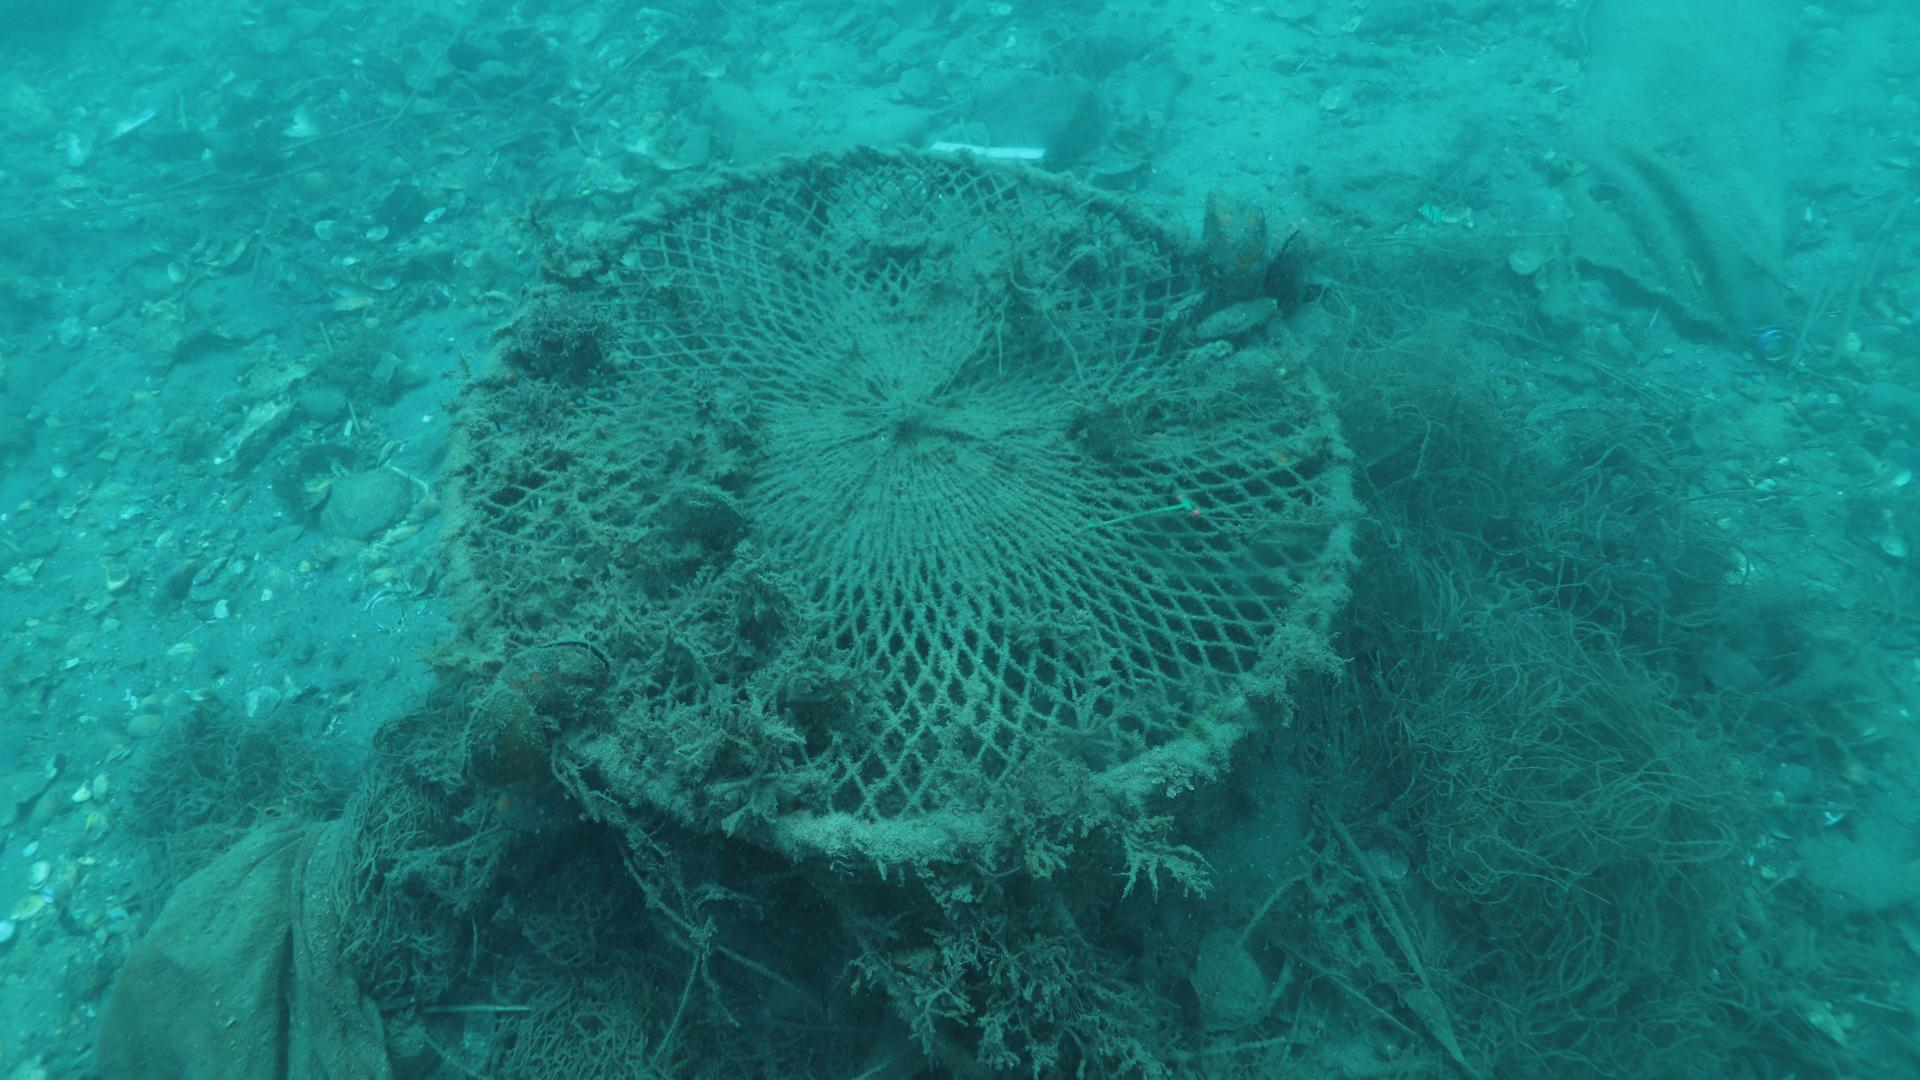circular fish trap: (440, 138, 1379, 876)
